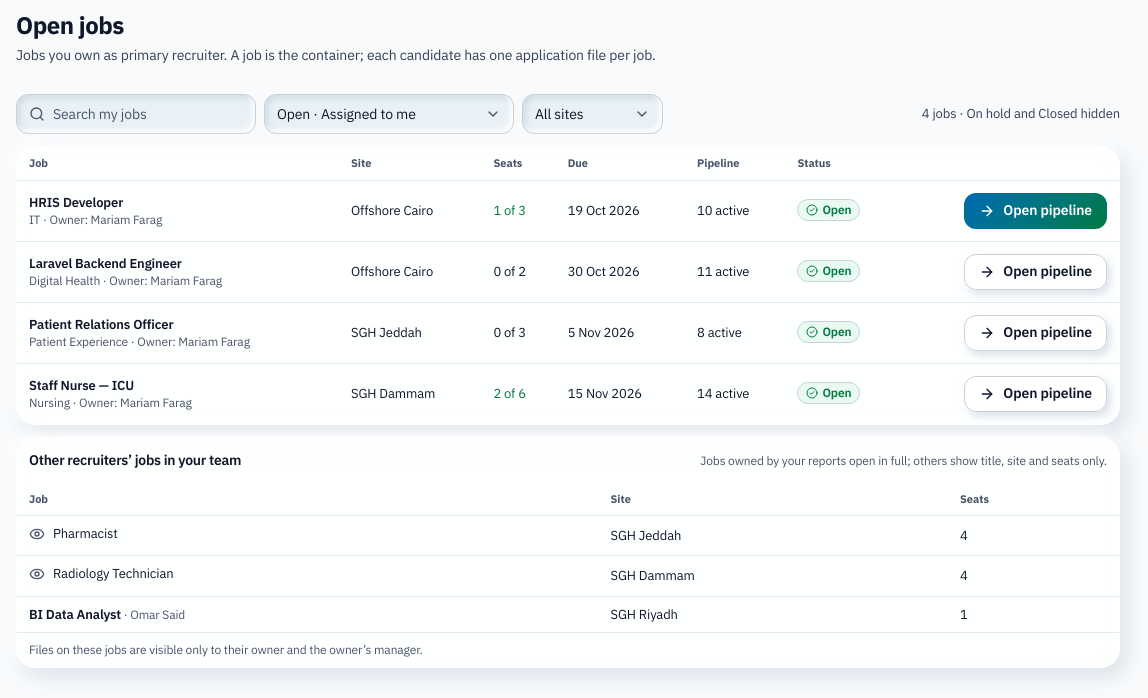
E08 Open jobs › filters by status, site and search
Check: the text "HRIS Developer" is shown, box x1=29 y1=194 x2=123 y2=211
Select "On hold · Assigned to me" in the 1st dropdown named "Status" at (389, 114), box x1=277 y1=95 x2=501 y2=133
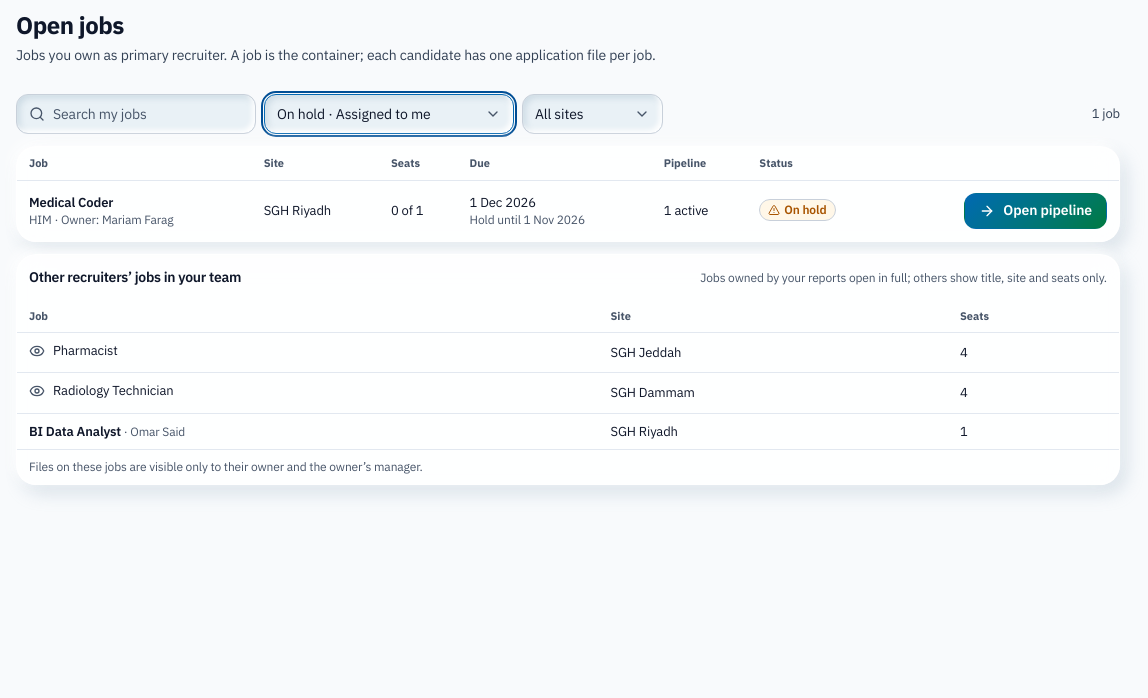
Check: the text "Medical Coder" is shown, box x1=29 y1=194 x2=113 y2=211
Check: the text "HRIS Developer" is gone
Select "Open · Assigned to me" in the 1st dropdown named "Status" at (389, 114), box x1=277 y1=95 x2=501 y2=133
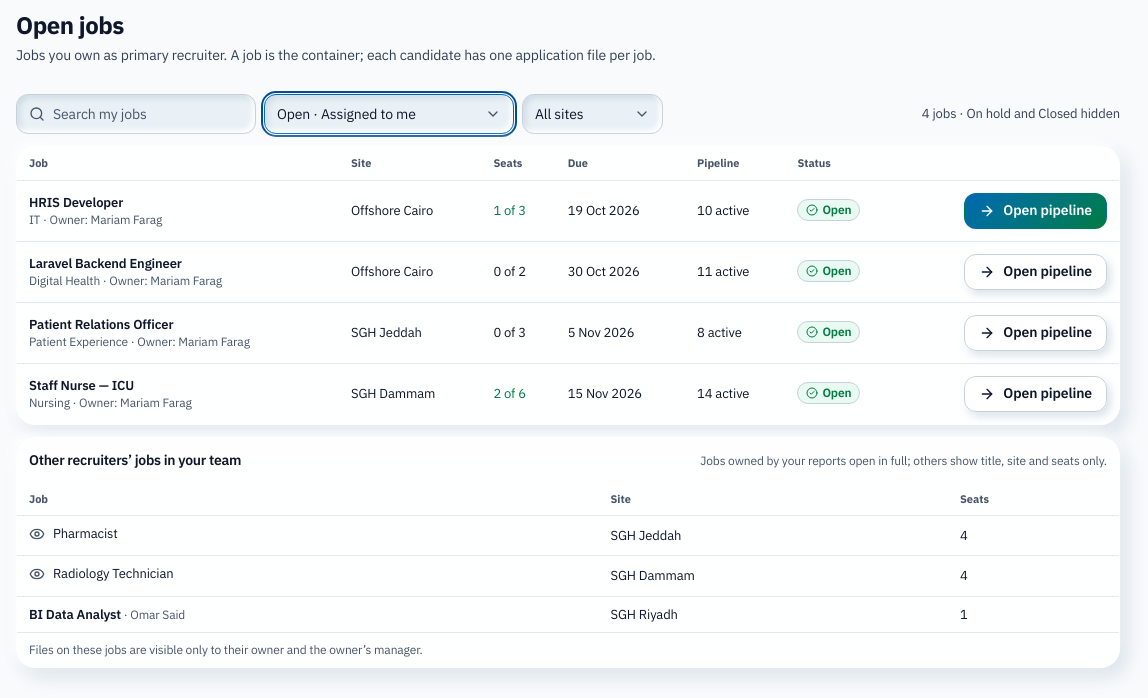
Select "SGH Jeddah" in the 2nd dropdown named "Site" at (592, 114), box x1=535 y1=95 x2=650 y2=133
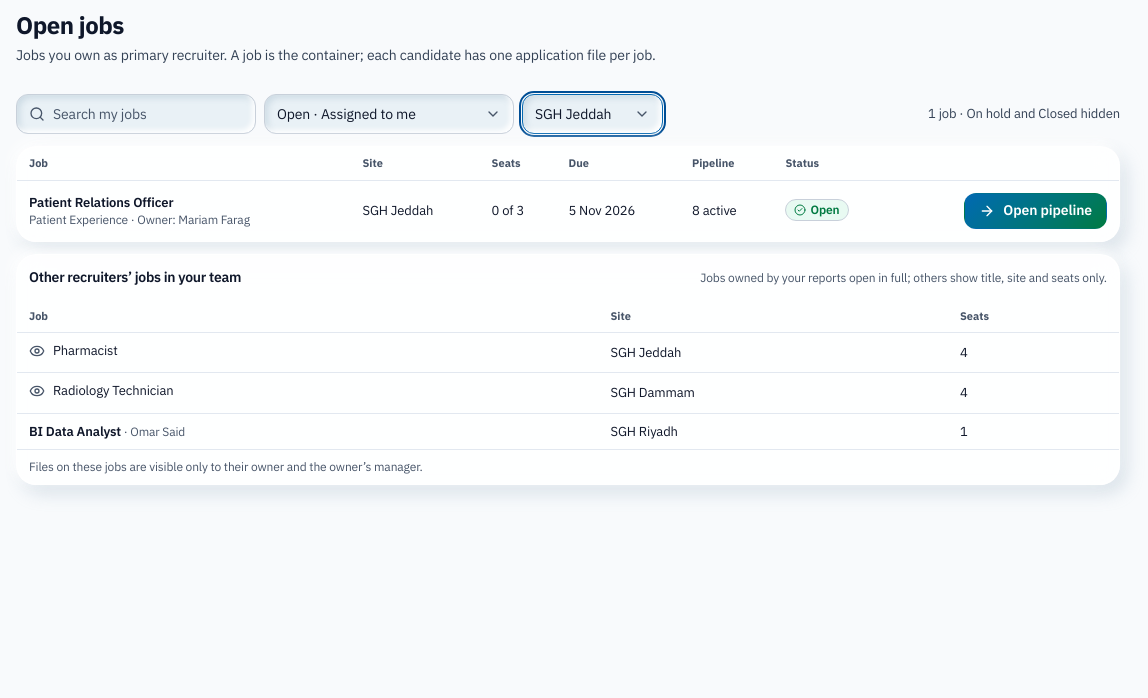
Check: the text "1 job · On hold and Closed hidden" is shown, box x1=928 y1=104 x2=1120 y2=124
Select "All sites" in the 2nd dropdown named "Site" at (592, 114), box x1=535 y1=95 x2=650 y2=133
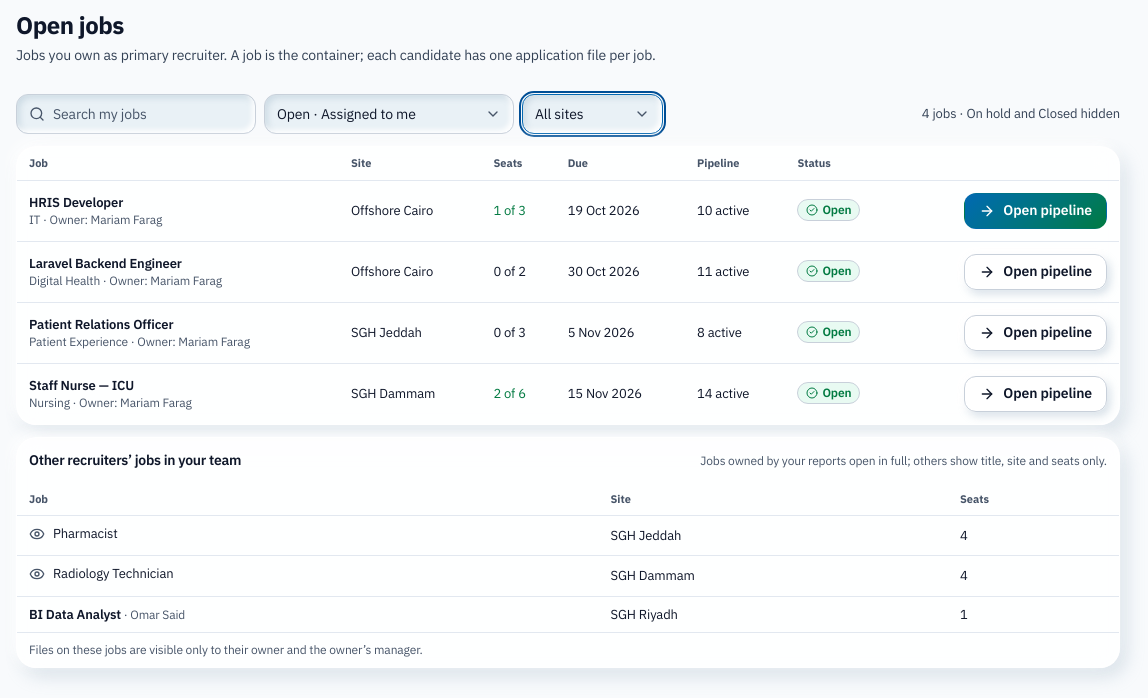
Type "laravel" into the field labelled "Search my jobs" at (148, 114), box x1=53 y1=95 x2=243 y2=133
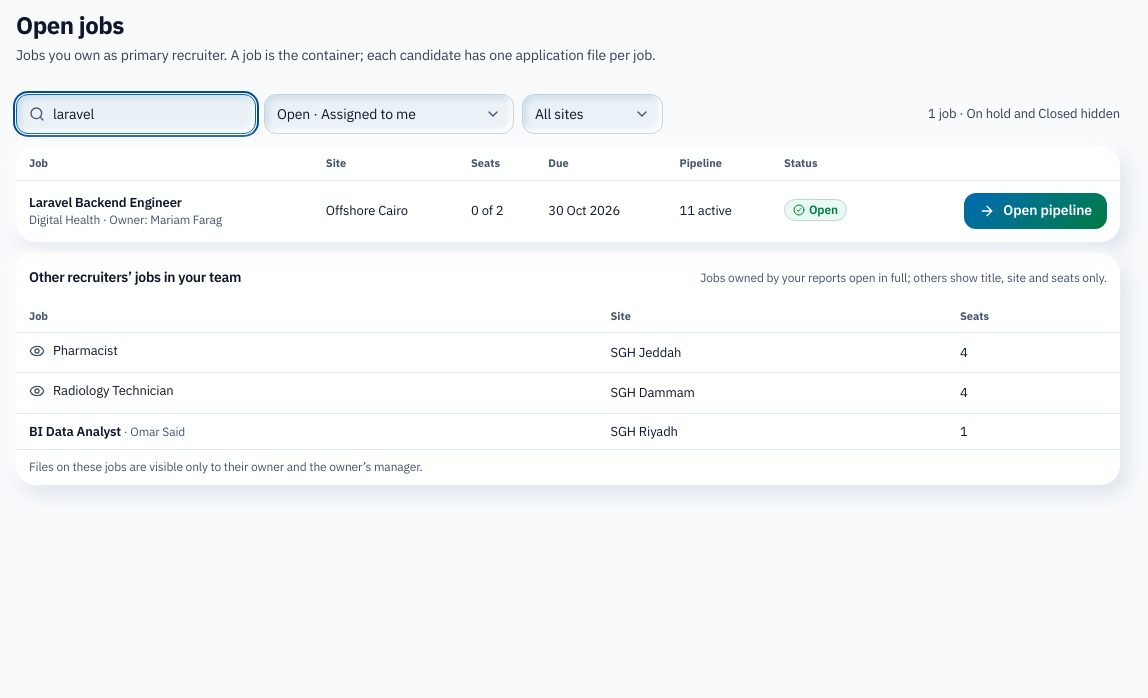
Check: the text "Laravel Backend Engineer" is shown, box x1=29 y1=194 x2=182 y2=211
Check: the text "HRIS Developer" is gone
